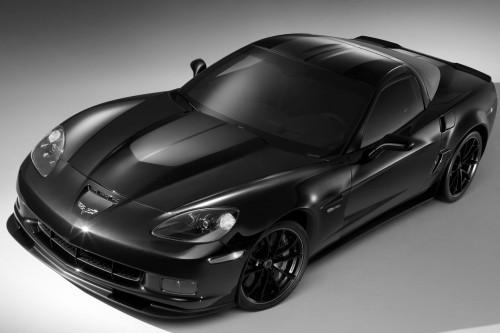car: (8, 30, 500, 325)
